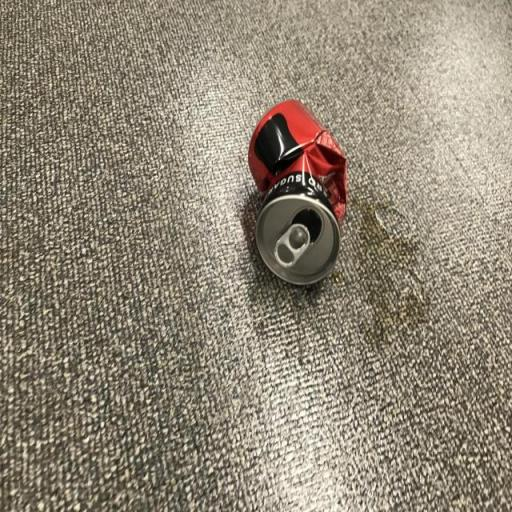metal: (219, 68, 394, 347)
